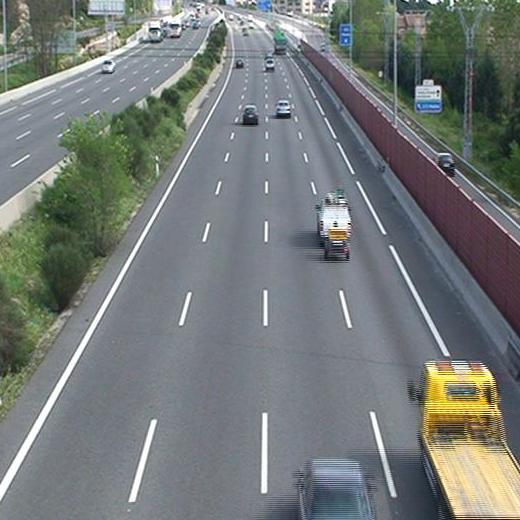car: (242, 106, 259, 126), (275, 100, 292, 117), (234, 58, 246, 70)
truck: (273, 32, 288, 56)
van: (316, 192, 355, 242), (265, 57, 277, 71)
